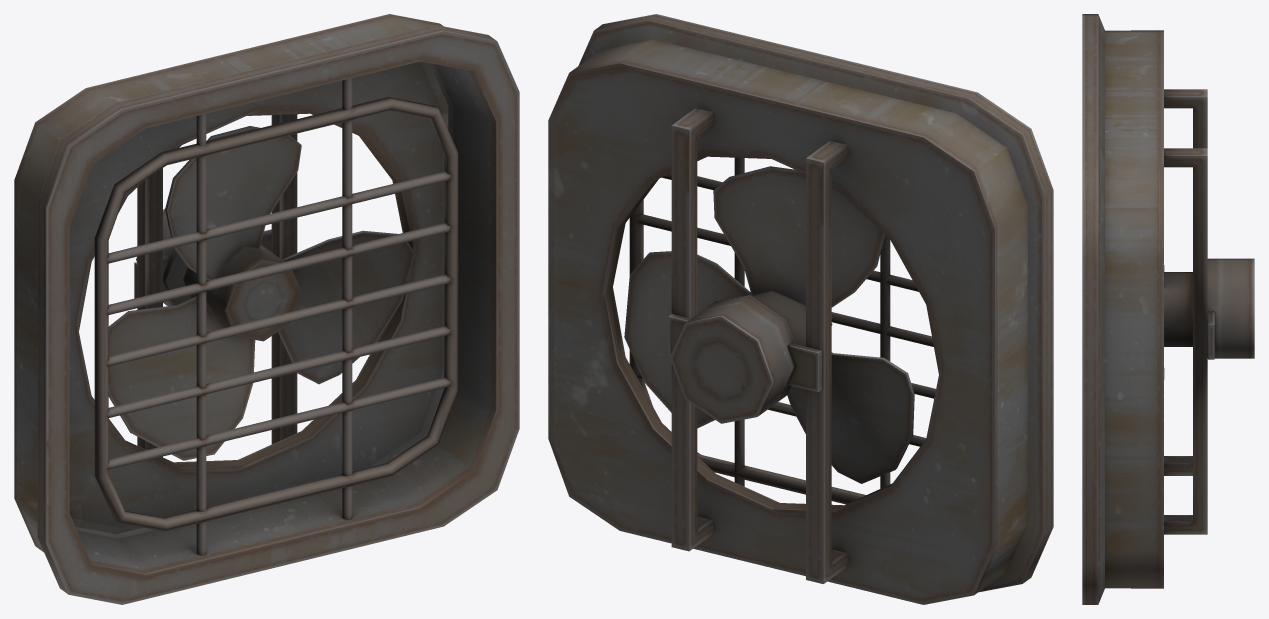
The model's file is Exhaust_Fan.fbx.
The picture shows the model from 3 angles, left to right: view 1: azimuth 30°, elevation 25°; view 2: azimuth 150°, elevation 25°; view 3: azimuth 270°, elevation 25°; orthographic projection. The views are drawn at different scales.
Visible parts, largest first — view 1: Exhaust_Fan; view 2: Exhaust_Fan; view 3: Exhaust_Fan.
Boxes of the visible parts, box(x1,y1,x2,y2) form: Exhaust_Fan: box(14, 14, 519, 604); Exhaust_Fan: box(548, 14, 1053, 604); Exhaust_Fan: box(1082, 14, 1254, 604).
Size of the model in its own units: 63.26 by 63.26 by 22.19.
